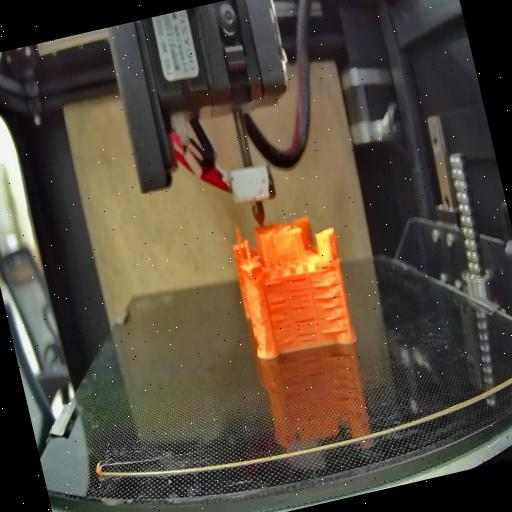cracks: (310, 278, 352, 338), (268, 298, 296, 344), (285, 274, 313, 314), (294, 314, 318, 346), (262, 280, 284, 292)
